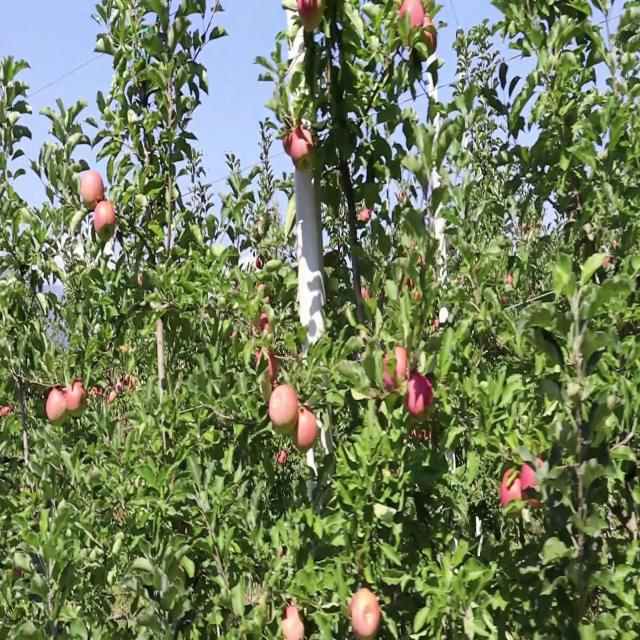apple: (352, 590, 382, 639), (272, 383, 299, 434), (520, 455, 544, 508), (408, 376, 435, 421), (384, 348, 410, 393), (80, 170, 105, 213), (292, 127, 316, 171), (296, 0, 324, 36), (396, 0, 424, 36), (296, 412, 319, 452), (96, 199, 117, 242), (500, 469, 522, 508), (520, 462, 544, 496), (256, 355, 280, 388), (284, 604, 305, 638), (424, 14, 439, 57), (48, 391, 67, 423), (68, 383, 86, 412), (260, 312, 272, 334), (360, 284, 373, 304), (116, 376, 127, 396), (92, 383, 104, 400), (284, 135, 292, 156), (12, 568, 23, 583), (276, 455, 288, 468), (108, 391, 118, 405), (4, 405, 12, 420)
